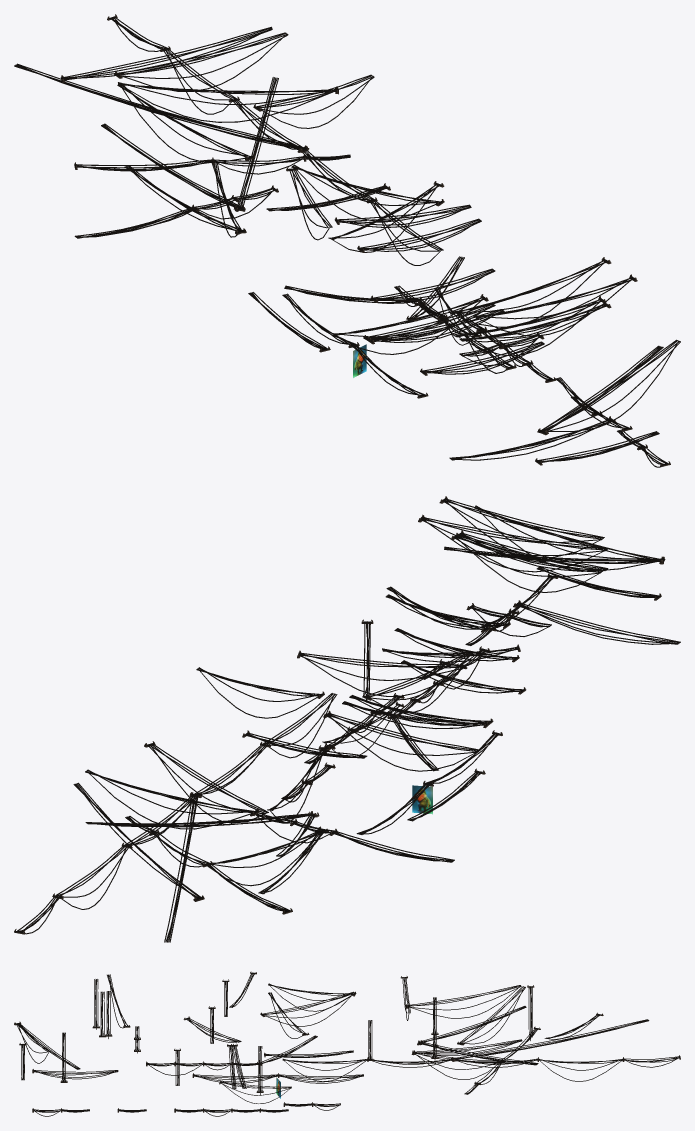
The model's file is city_cables.glb.
The picture shows the model from 3 angles, top to bottom: view 1: azimuth 30°, elevation 25°; view 2: azimuth 150°, elevation 25°; view 3: azimuth 270°, elevation 25°; orthographic projection. The views are drawn at different scales.
Visible parts, largest first — view 1: cable_mix_G__13_; view 2: cable_mix_G__13_; view 3: cable_mix_G__13_.
Part boxes in pixels (x1=…): cable_mix_G__13_: x1=14, y1=14, x2=680, y2=467; cable_mix_G__13_: x1=14, y1=496, x2=680, y2=942; cable_mix_G__13_: x1=14, y1=971, x2=680, y2=1116.
Size of the model in its own units: 30.24 by 18.7 by 93.95.
Materials: 3 (3 with a texture image).
